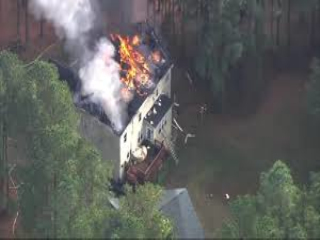fire: (118, 33, 157, 94)
smoke: (60, 17, 120, 130)
